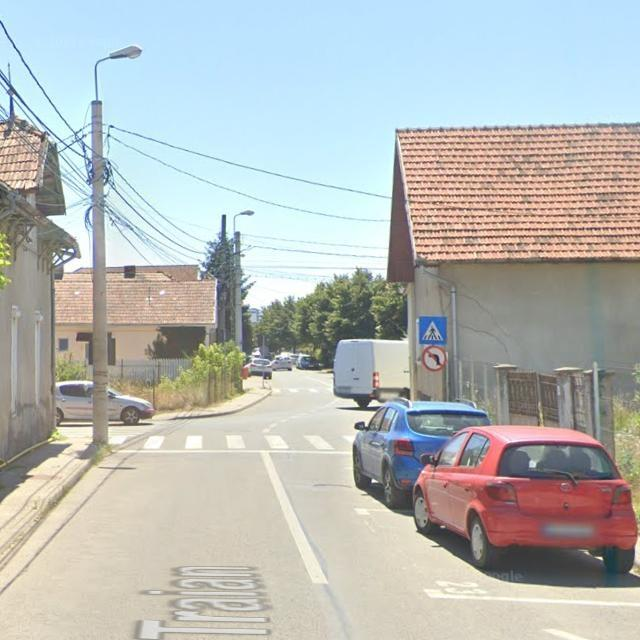info_crosswalk: (419, 315, 448, 346)
